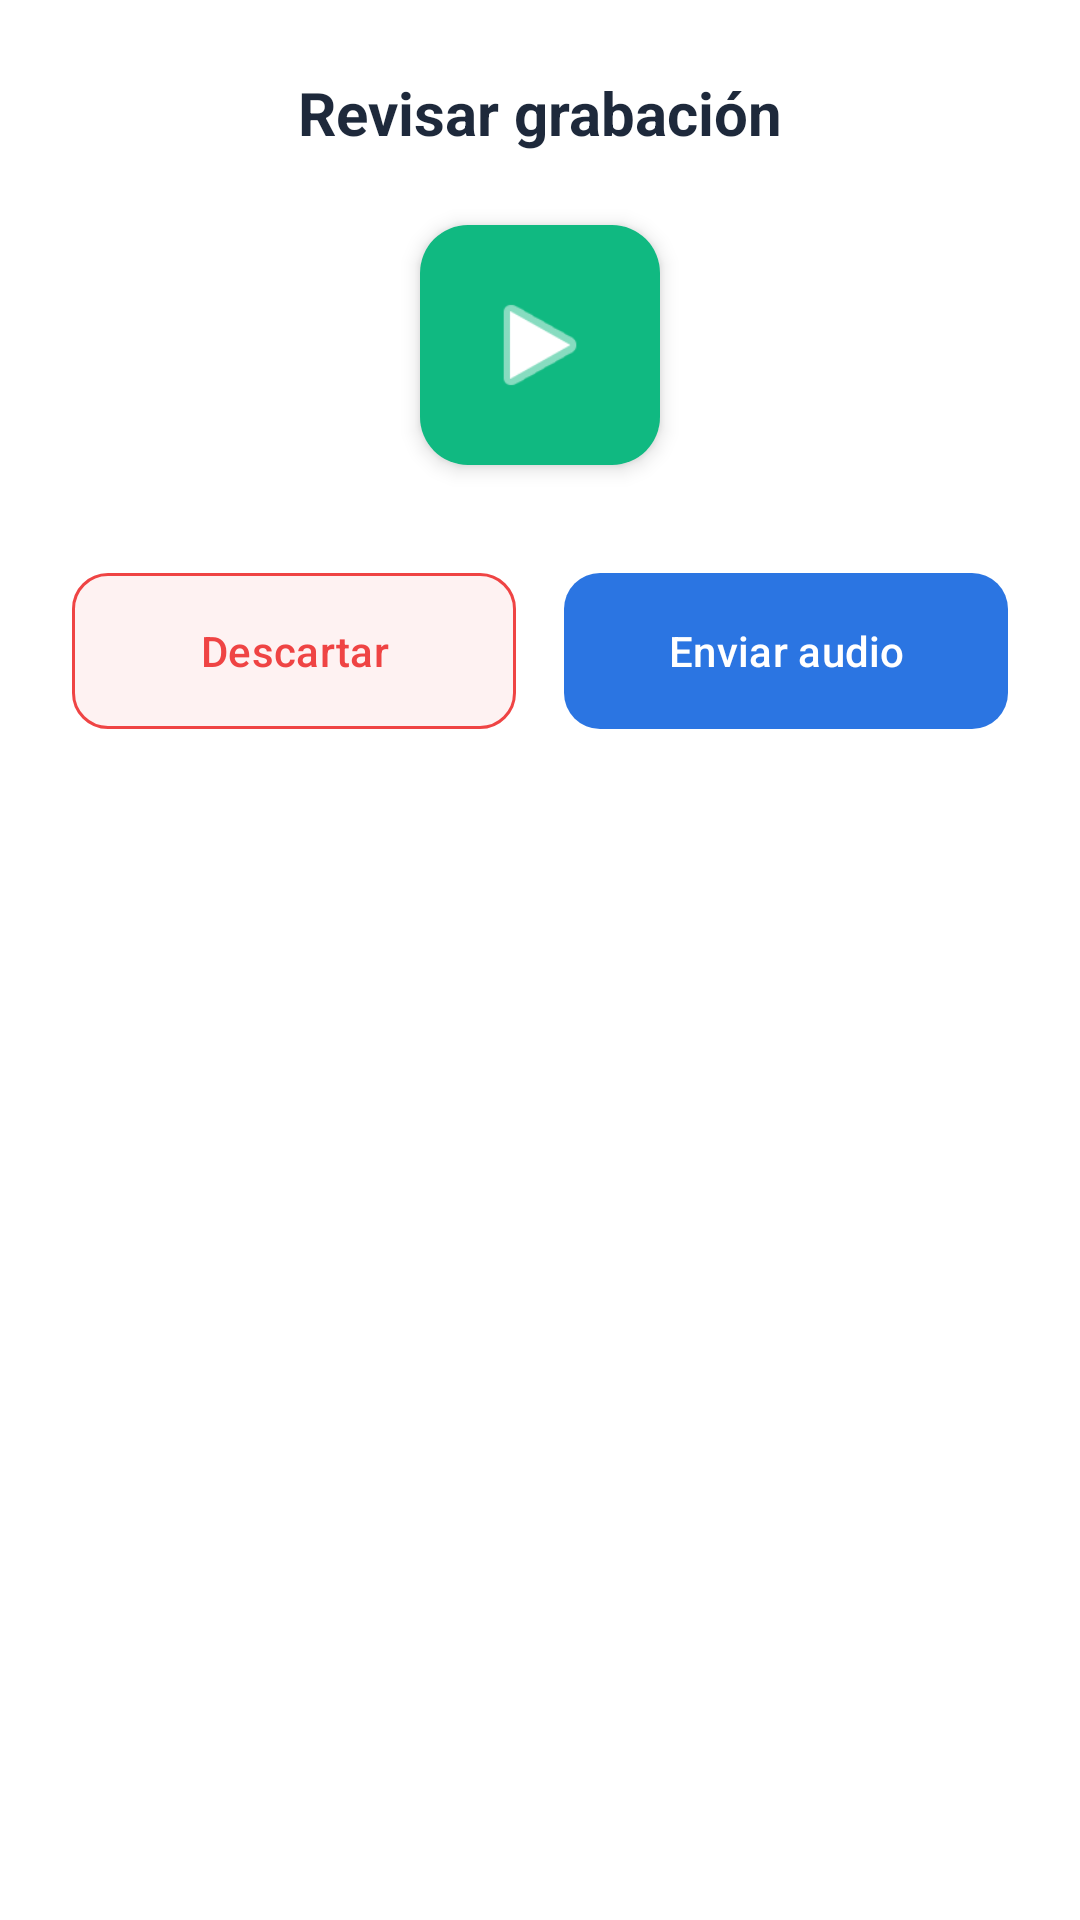

Locate icon controls on the screen. Image size 1080 × 1920, boxes as (x1, y1, x2, y2).
play: (420, 225, 660, 465)
